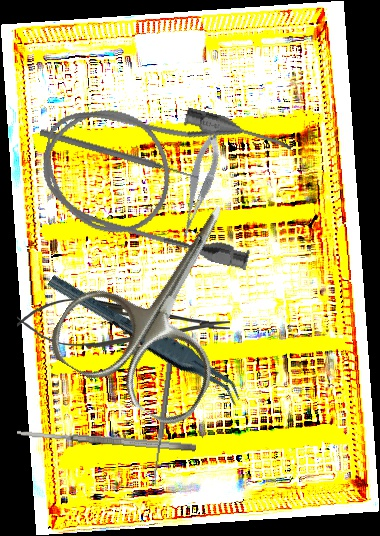Cannula: (29, 76, 295, 274)
Iris Scissors: (41, 166, 291, 434)
Micro Scissor: (167, 127, 231, 241)
Needle Holder: (16, 296, 231, 352)
Pusher: (38, 127, 200, 183)
Spatula Surgical: (16, 427, 197, 453)
Surgical Spoon: (150, 331, 177, 486)
Tissue Forceps: (46, 253, 246, 423)
